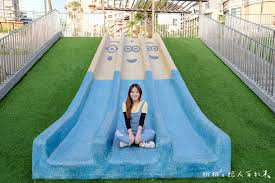people: (116, 84, 156, 150)
